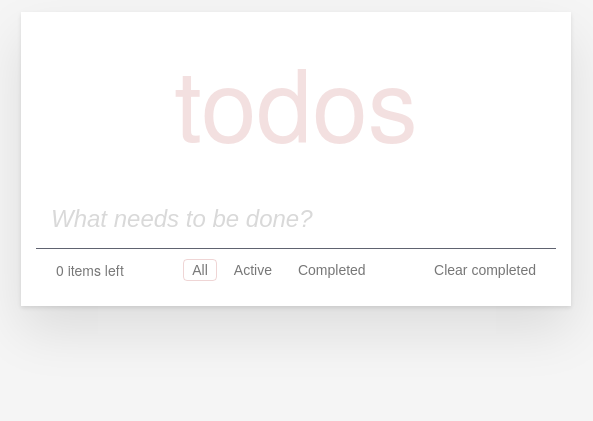
Test: ToDo App › clears completed tasks
Type "Clean me" into the field with placeholder "What needs to be done?".
click(296, 219); type("Clean me")  # box [36, 190, 556, 248]
Then press Enter
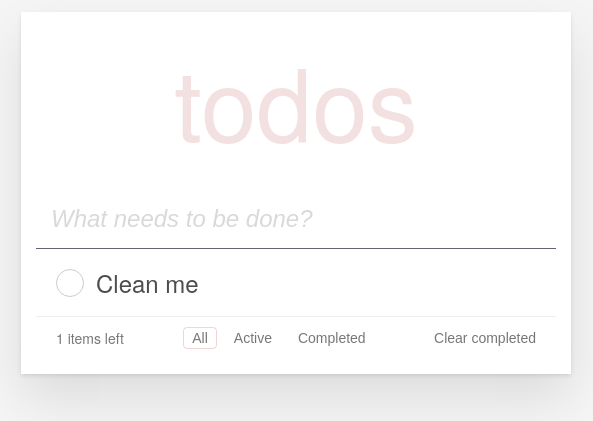
Click the list item "Clean me".
click(296, 283)  # box [36, 249, 556, 317]
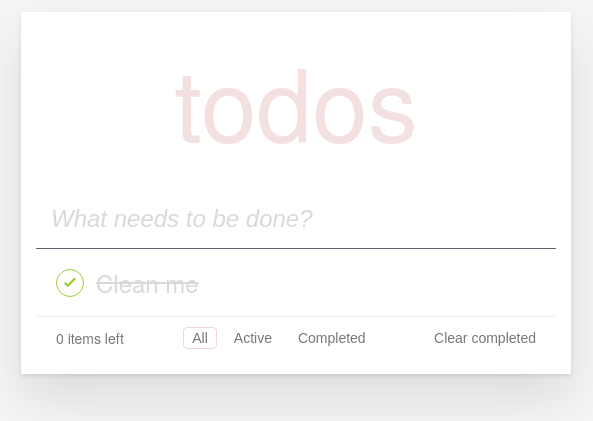
Click the button "Clear completed".
click(485, 338)  # box [434, 330, 536, 346]
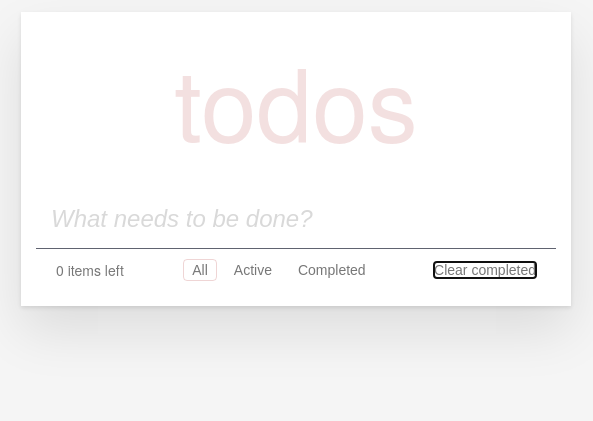
Now the list item "Clean me" is gone
